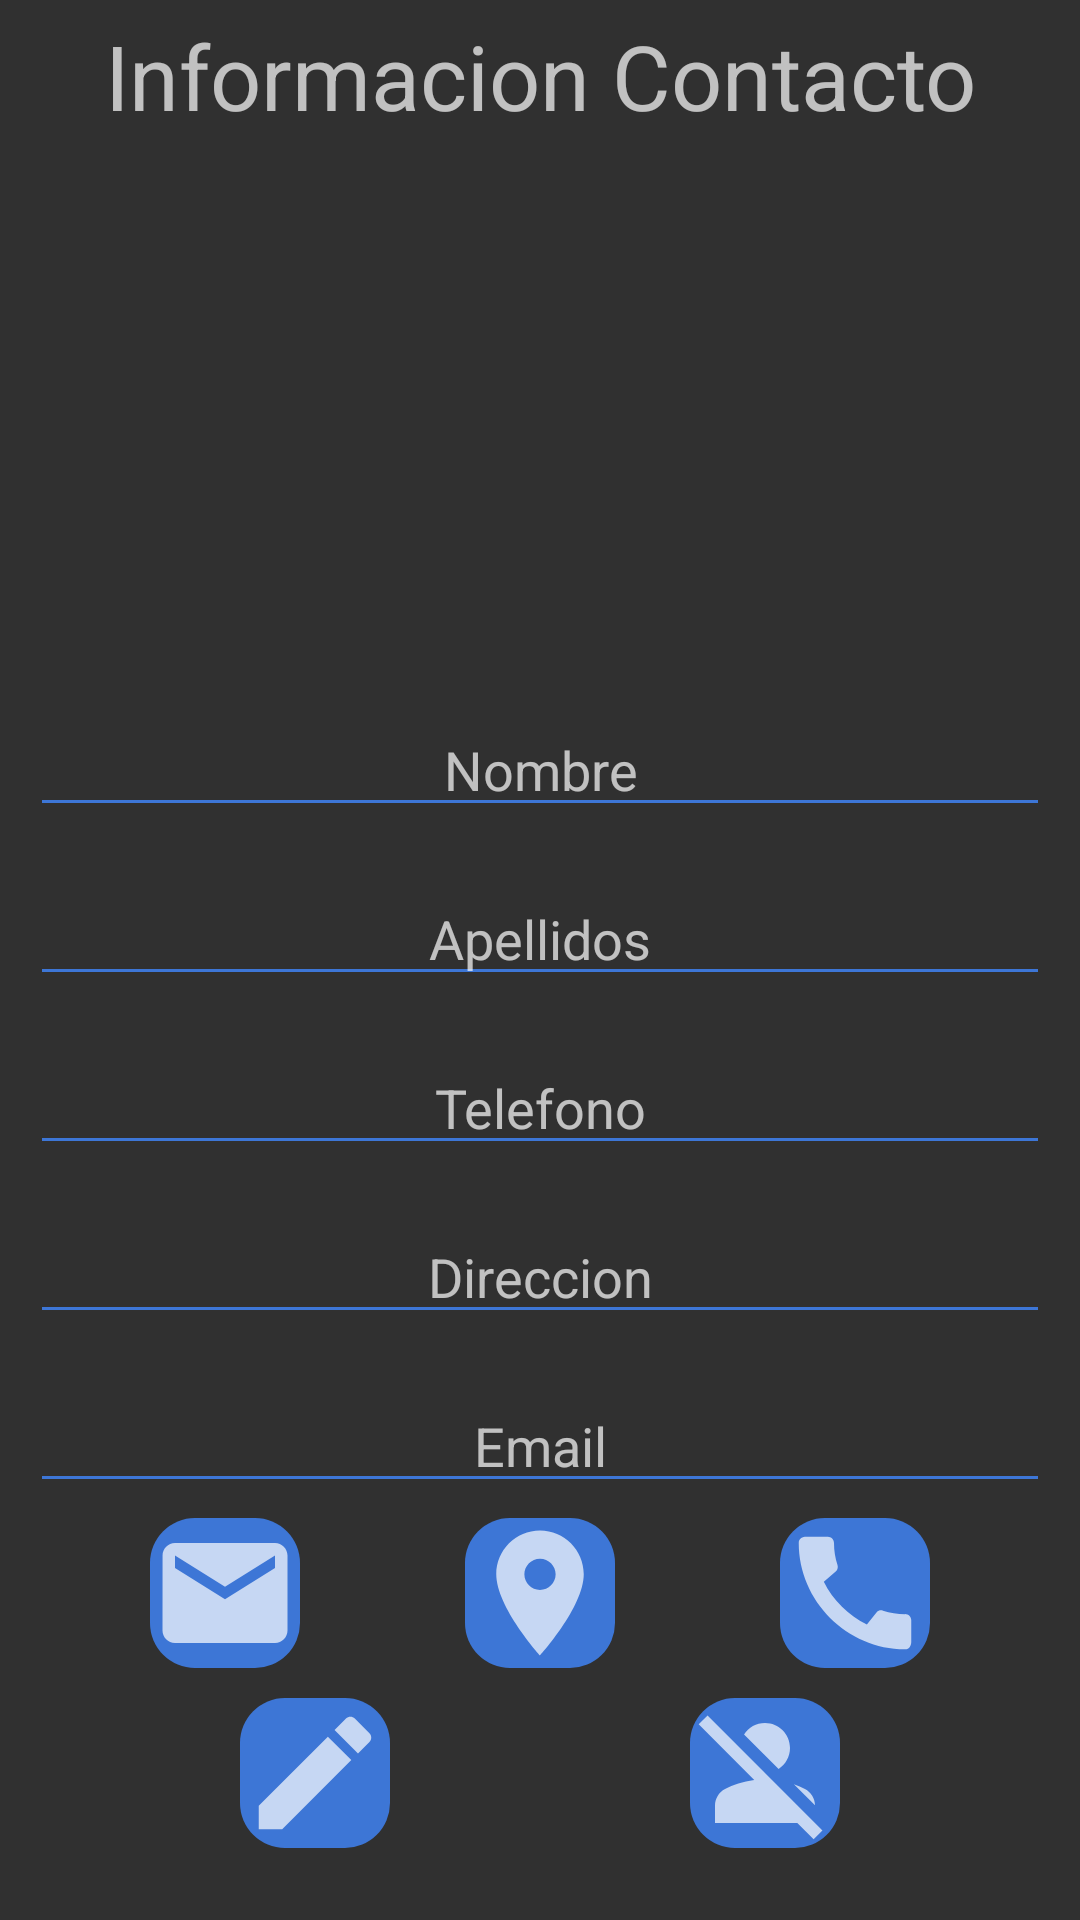

Icon click points for this 1080*1920 phone screenshot, format point (x, y):
call: point (855, 1593)
edit: point (315, 1773)
location on: point (540, 1593)
person off: point (765, 1773)
